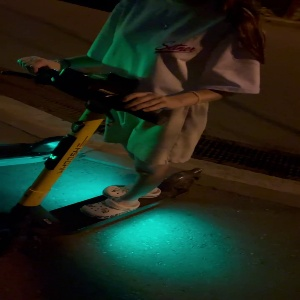human on a scooter: (1, 1, 264, 260)
